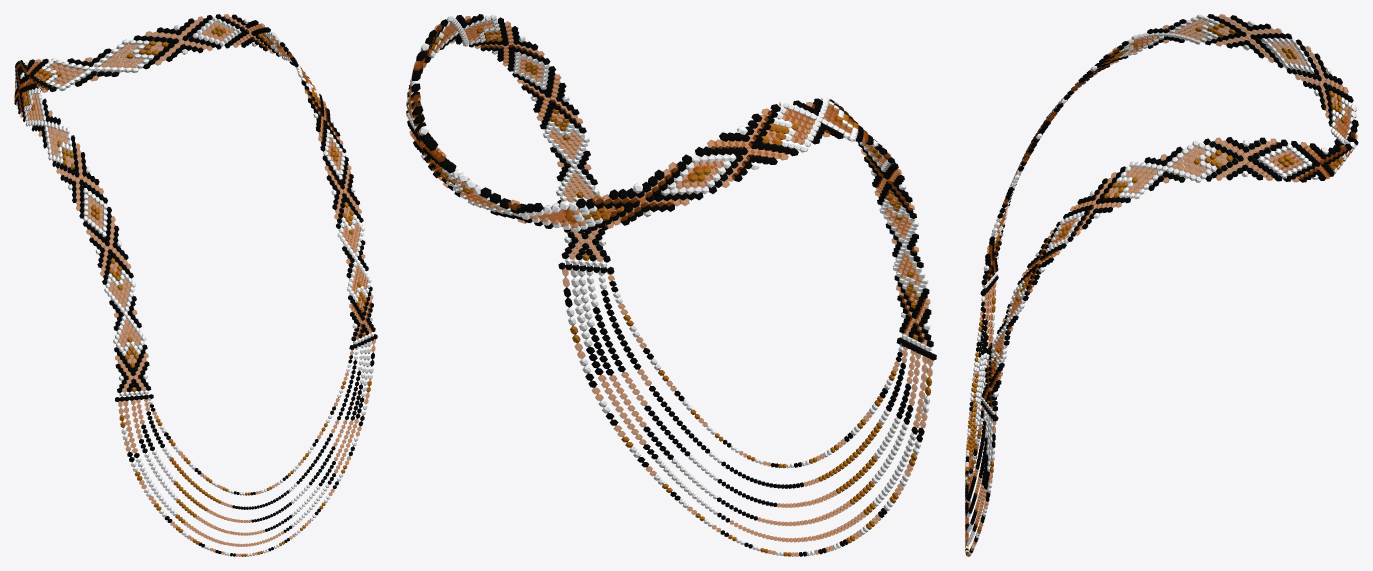
The model's file is Collar 4.fbx.
The picture shows the model from 3 angles, left to right: view 1: azimuth 30°, elevation 25°; view 2: azimuth 150°, elevation 25°; view 3: azimuth 270°, elevation 25°; orthographic projection. The views are drawn at different scales.
Parts seen in each view (by area): view 1: pasted__pasted__pPlatonic8207_BLACK_0; view 2: pasted__pasted__pPlatonic8207_BLACK_0; view 3: pasted__pasted__pPlatonic8207_BLACK_0.
Part boxes in pixels (x1=…): pasted__pasted__pPlatonic8207_BLACK_0: x1=14, y1=14, x2=377, y2=556; pasted__pasted__pPlatonic8207_BLACK_0: x1=406, y1=14, x2=936, y2=556; pasted__pasted__pPlatonic8207_BLACK_0: x1=965, y1=14, x2=1358, y2=556.
Size of the model in its own units: 2886 by 4291 by 3249.
